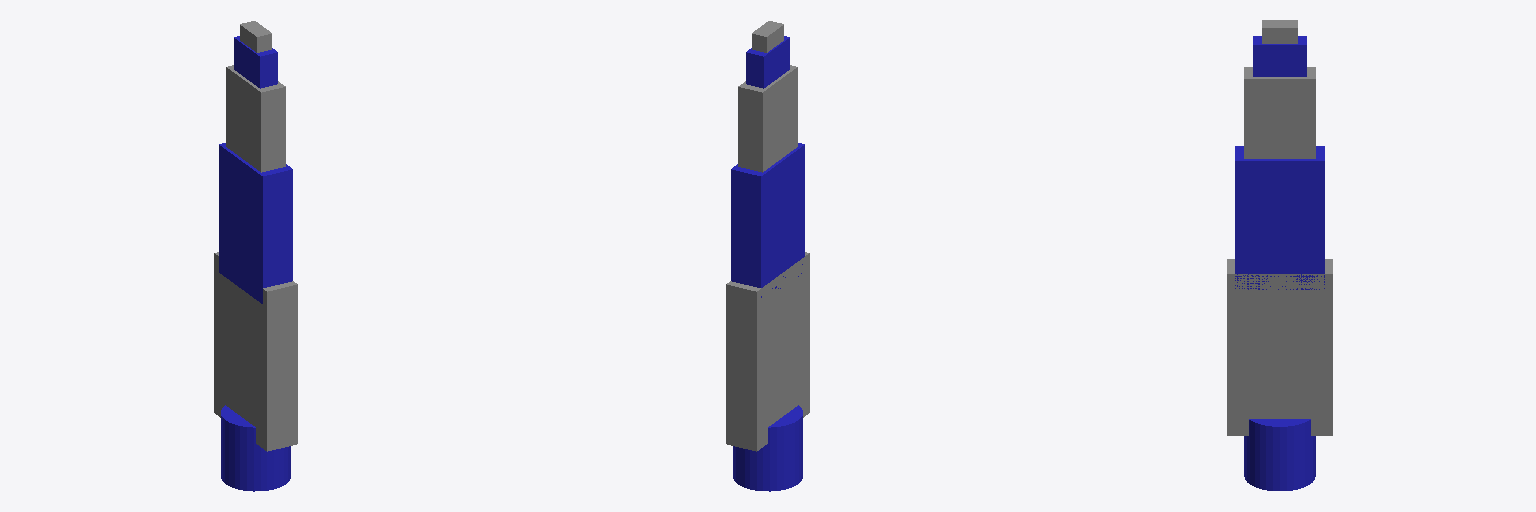
URDF robot description (six_axis_robot):
<?xml version="1.0"?>
<robot name="six_axis_robot">

    <!-- Définition des couleurs et matériaux -->
    <material name="gray">
        <color rgba="0.6 0.6 0.6 1"/>
    </material>
    
    <material name="blue">
        <color rgba="0.2 0.2 0.8 1"/>
    </material>

    <!-- Base -->
    <link name="base"/>
    
    <!-- Articulation 1 : Rotation du socle -->
    <link name="link1">
        <visual>
            <geometry>
                <cylinder radius="0.1" length="0.2"/>
            </geometry>
            <material name="blue"/>
        </visual>
    </link>

    <joint name="joint1" type="revolute">
        <parent link="base"/>
        <child link="link1"/>
        <axis xyz="0 0 1"/>
        <origin xyz="0 0 0.1" rpy="0 0 0"/>
        <limit lower="-3.14" upper="3.14" effort="10" velocity="1"/>
    </joint>

    <!-- Articulation 2 : Pivot vertical -->
    <link name="link2">
        <visual>
            <geometry>
                <box size="0.1 0.3 0.5"/>
            </geometry>
            <material name="gray"/>
        </visual>
    </link>

    <joint name="joint2" type="revolute">
        <parent link="link1"/>
        <child link="link2"/>
        <axis xyz="0 1 0"/>
        <origin xyz="0 0 0.3" rpy="0 0 0"/>
        <limit lower="-1.57" upper="1.57" effort="10" velocity="1"/>
    </joint>

    <!-- Articulation 3 : Rotation du bras intermédiaire -->
    <link name="link3">
        <visual>
            <geometry>
                <box size="0.1 0.25 0.4"/>
            </geometry>
            <material name="blue"/>
        </visual>
    </link>

    <joint name="joint3" type="revolute">
        <parent link="link2"/>
        <child link="link3"/>
        <axis xyz="0 1 0"/>
        <origin xyz="0 0 0.4" rpy="0 0 0"/>
        <limit lower="-2.0" upper="2.0" effort="10" velocity="1"/>
    </joint>

    <!-- Articulation 4 : Rotation du poignet -->
    <link name="link4">
        <visual>
            <geometry>
                <box size="0.08 0.2 0.3"/>
            </geometry>
            <material name="gray"/>
        </visual>
    </link>

    <joint name="joint4" type="revolute">
        <parent link="link3"/>
        <child link="link4"/>
        <axis xyz="0 0 1"/>
        <origin xyz="0 0 0.3" rpy="0 0 0"/>
        <limit lower="-1.57" upper="1.57" effort="10" velocity="1"/>
    </joint>

    <!-- Articulation 5 : Rotation de l’axe final -->
    <link name="link5">
        <visual>
            <geometry>
                <box size="0.06 0.15 0.2"/>
            </geometry>
            <material name="blue"/>
        </visual>
    </link>

    <joint name="joint5" type="revolute">
        <parent link="link4"/>
        <child link="link5"/>
        <axis xyz="0 1 0"/>
        <origin xyz="0 0 0.15" rpy="0 0 0"/>
        <limit lower="-1.57" upper="1.57" effort="10" velocity="1"/>
    </joint>

    <!-- Articulation 6 : Rotation de la pince -->
    <link name="link6">
        <visual>
            <geometry>
                <box size="0.05 0.1 0.1"/>
            </geometry>
            <material name="gray"/>
        </visual>
    </link>

    <joint name="joint6" type="revolute">
        <parent link="link5"/>
        <child link="link6"/>
        <axis xyz="0 0 1"/>
        <origin xyz="0 0 0.1" rpy="0 0 0"/>
        <limit lower="-3.14" upper="3.14" effort="10" velocity="1"/>
    </joint>

</robot>

--- Facts derived from the render (not from the file) ---
3 views of the same robot in one strip: view 1: azimuth 30°, elevation 25°; view 2: azimuth 150°, elevation 25°; view 3: azimuth 270°, elevation 25° (orthographic).
Robot: six_axis_robot — 7 links, 6 joints (6 revolute); root link base; default pose: every joint at zero.
Visible links, largest first — view 1: link2, link3, link4, link1, link5, link6; view 2: link2, link3, link4, link1, link5, link6; view 3: link2, link3, link4, link1, link5, link6.
Link boxes in pixels (x1,y1,x2,y2): link2: [214, 252, 297, 451]; link3: [219, 143, 292, 303]; link4: [226, 65, 285, 172]; link1: [221, 405, 290, 491]; link5: [234, 36, 277, 88]; link6: [240, 21, 271, 52]; link2: [726, 252, 809, 451]; link3: [731, 143, 804, 297]; link4: [738, 65, 797, 172]; link1: [733, 405, 802, 491]; link5: [746, 36, 789, 88]; link6: [752, 21, 783, 52]; link2: [1227, 259, 1332, 435]; link3: [1235, 146, 1324, 289]; link4: [1244, 67, 1315, 158]; link1: [1244, 419, 1315, 490]; link5: [1253, 36, 1306, 76]; link6: [1262, 20, 1297, 43].
Bounding box of the posed robot: 0.2 × 0.3 × 1.4 m (x, y, z).
Geometry: primitives only (box / cylinder / sphere), no mesh files.
